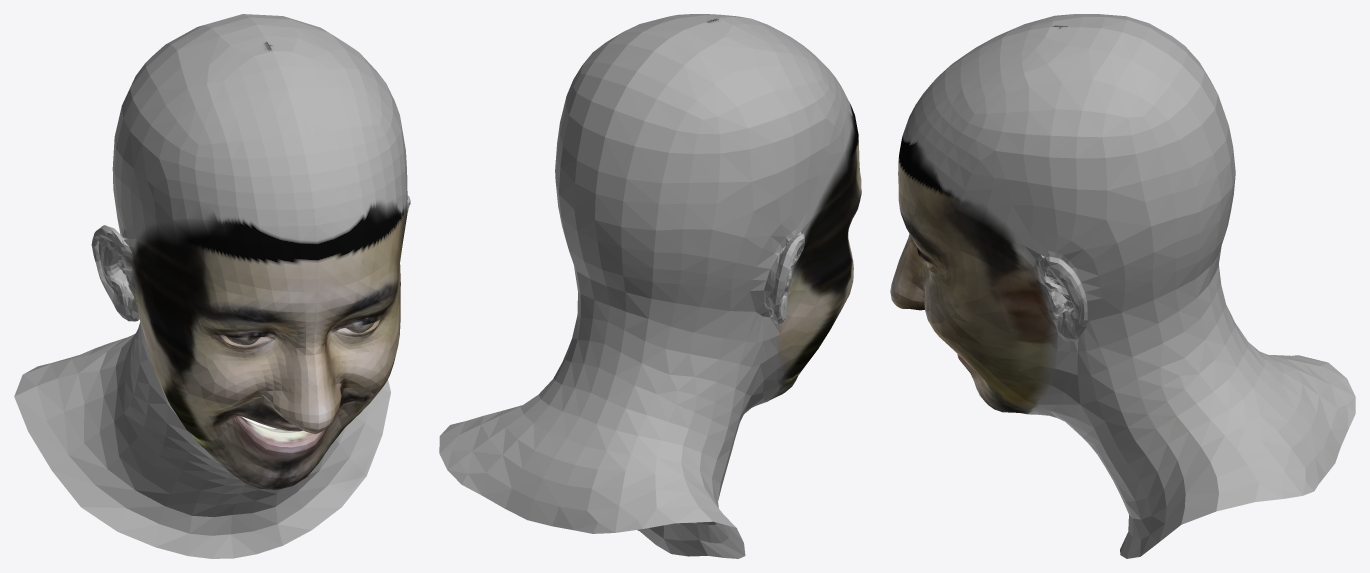
File: ezgif-frame-016.obj
3 views of the same model, side by side, from view 1: azimuth 30°, elevation 25°; view 2: azimuth 150°, elevation 25°; view 3: azimuth 270°, elevation 25° (orthographic). The views are drawn at different scales.
Bounding box in the file's own units: 0.2077 × 0.3275 × 0.2695.
1 material, 1 textured.
